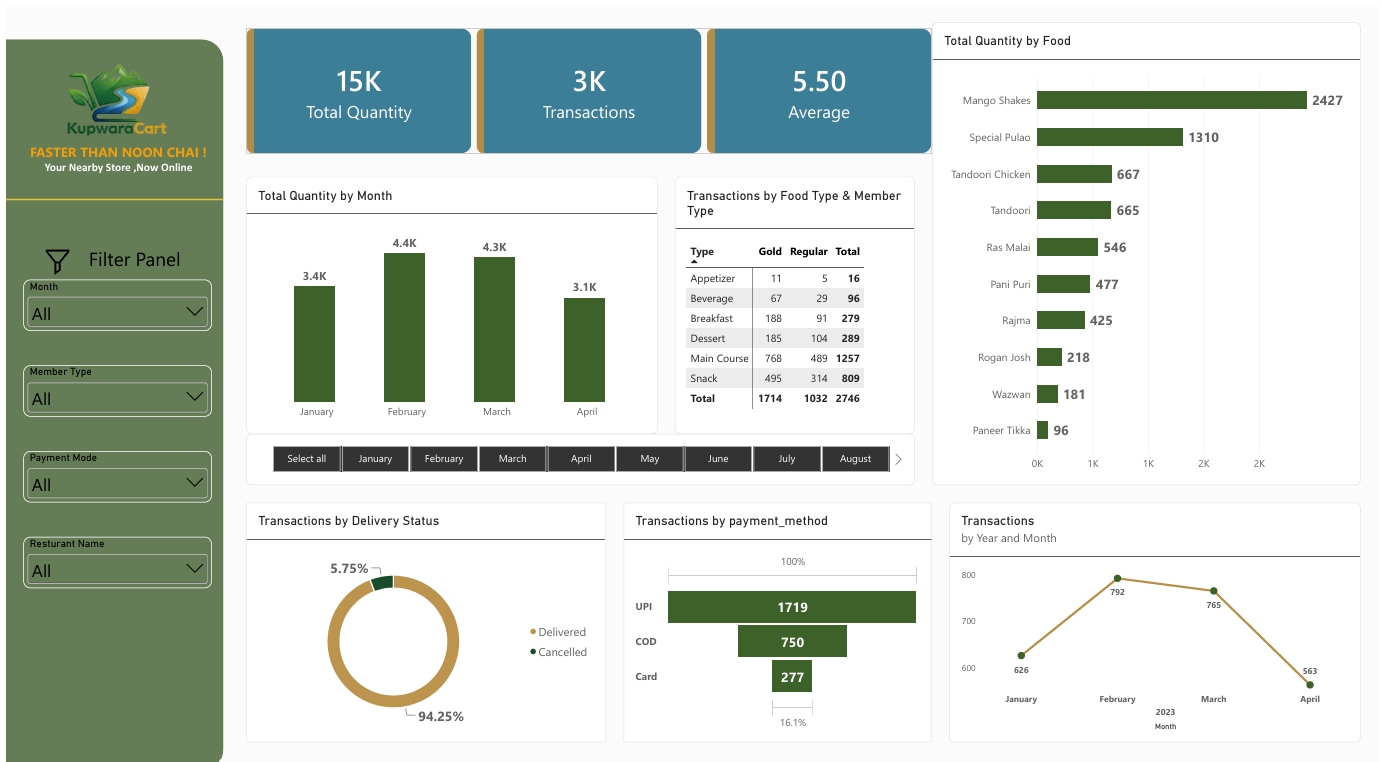

Layout of this report page (visuals, bound fields, positions):
{"tool":"powerbi","page":{"name":"Page 1","canvas":[1920,1080],"ordinal":0},"visuals":[{"type":"shape","box":[0,48,304,1024],"z":0},{"type":"image","box":[0,0,304,272],"z":1000},{"type":"textbox","box":[0,192,304,48],"z":2000},{"type":"shape","box":[0,256,304,32],"z":3000},{"type":"cardVisual","fields":{"Data":["Sales Data.Total Quantity","Sales Data.Transactions","Sales Data.Average"]},"box":[336,32,960,176],"z":4000},{"type":"clusteredColumnChart","title":"Total Quantity by Month","fields":{"Category":["Sales Data.orderDate.Variation.Date Hierarchy.Month"],"Y":["Sales Data.Total Quantity"]},"box":[336,240,576,360],"z":5000},{"type":"pivotTable","title":"Transactions by Food Type & Member Type ","fields":{"Columns":["Customer Details.member_Type"],"Rows":["Food_Details.Type"],"Values":["Sales Data.Transactions"]},"box":[936,240,336,360],"z":6000},{"type":"donutChart","fields":{"Category":["Sales Data.deliver_status"],"Y":["Sales Data.Transactions"]},"box":[336,696,504,336],"z":7000},{"type":"funnel","fields":{"Category":["Sales Data.payment_method"],"Y":["Sales Data.Transactions"]},"box":[864,696,432,336],"z":8000},{"type":"clusteredBarChart","fields":{"Category":["Food_Details.Food"],"Y":["Sales Data.Total Quantity"]},"box":[1296,24,600,648],"z":9000},{"type":"lineChart","fields":{"Category":["Sales Data.orderDate.Variation.Date Hierarchy.Year","Sales Data.orderDate.Variation.Date Hierarchy.Month"],"Y":["Sales Data.Transactions"]},"box":[1320,696,576,336],"z":10000},{"type":"slicer","fields":{"Values":["Sales Data.orderDate.Variation.Date Hierarchy.Month"]},"box":[24,384,264,72],"z":10001},{"type":"slicer","fields":{"Values":["Sales Data.payment_method"]},"box":[24,624,264,72],"z":10002},{"type":"slicer","fields":{"Values":["Customer Details.member_Type"]},"box":[24,504,264,72],"z":10003},{"type":"slicer","fields":{"Values":["Resturant_Details.Resturant_Name"]},"box":[24,744,264,72],"z":10004},{"type":"slicer","fields":{"Values":["Sales Data.orderDate.Variation.Date Hierarchy.Month"]},"box":[336,600,936,72],"z":10005},{"type":"image","box":[24,336,96,48],"z":10006},{"type":"textbox","box":[96,336,168,48],"z":10007}]}

Visuals, with their boxes in screenshot pixels (x1, y1, x2, y2), scaled from the page's 1920x1080 canvas onto the 1382x762 screenshot:
shape: {"x1": 0, "y1": 34, "x2": 219, "y2": 756}
image: {"x1": 0, "y1": 0, "x2": 219, "y2": 192}
textbox: {"x1": 0, "y1": 135, "x2": 219, "y2": 169}
shape: {"x1": 0, "y1": 181, "x2": 219, "y2": 203}
cardVisual - Sales Data.Total Quantity x Sales Data.Transactions: {"x1": 242, "y1": 23, "x2": 933, "y2": 147}
"Total Quantity by Month" clusteredColumnChart: {"x1": 242, "y1": 169, "x2": 656, "y2": 423}
"Transactions by Food Type & Member Type " pivotTable: {"x1": 674, "y1": 169, "x2": 916, "y2": 423}
donutChart - Sales Data.deliver_status x Sales Data.Transactions: {"x1": 242, "y1": 491, "x2": 605, "y2": 728}
funnel - Sales Data.payment_method x Sales Data.Transactions: {"x1": 622, "y1": 491, "x2": 933, "y2": 728}
clusteredBarChart - Food_Details.Food x Sales Data.Total Quantity: {"x1": 933, "y1": 17, "x2": 1365, "y2": 474}
lineChart - Sales Data.orderDate.Variation.Date Hierarchy.Year x Sales Data.orderDate.Variation.Date Hierarchy.Month: {"x1": 950, "y1": 491, "x2": 1365, "y2": 728}
slicer - Sales Data.orderDate.Variation.Date Hierarchy.Month: {"x1": 17, "y1": 271, "x2": 207, "y2": 322}
slicer - Sales Data.payment_method: {"x1": 17, "y1": 440, "x2": 207, "y2": 491}
slicer - Customer Details.member_Type: {"x1": 17, "y1": 356, "x2": 207, "y2": 406}
slicer - Resturant_Details.Resturant_Name: {"x1": 17, "y1": 525, "x2": 207, "y2": 576}
slicer - Sales Data.orderDate.Variation.Date Hierarchy.Month: {"x1": 242, "y1": 423, "x2": 916, "y2": 474}
image: {"x1": 17, "y1": 237, "x2": 86, "y2": 271}
textbox: {"x1": 69, "y1": 237, "x2": 190, "y2": 271}
